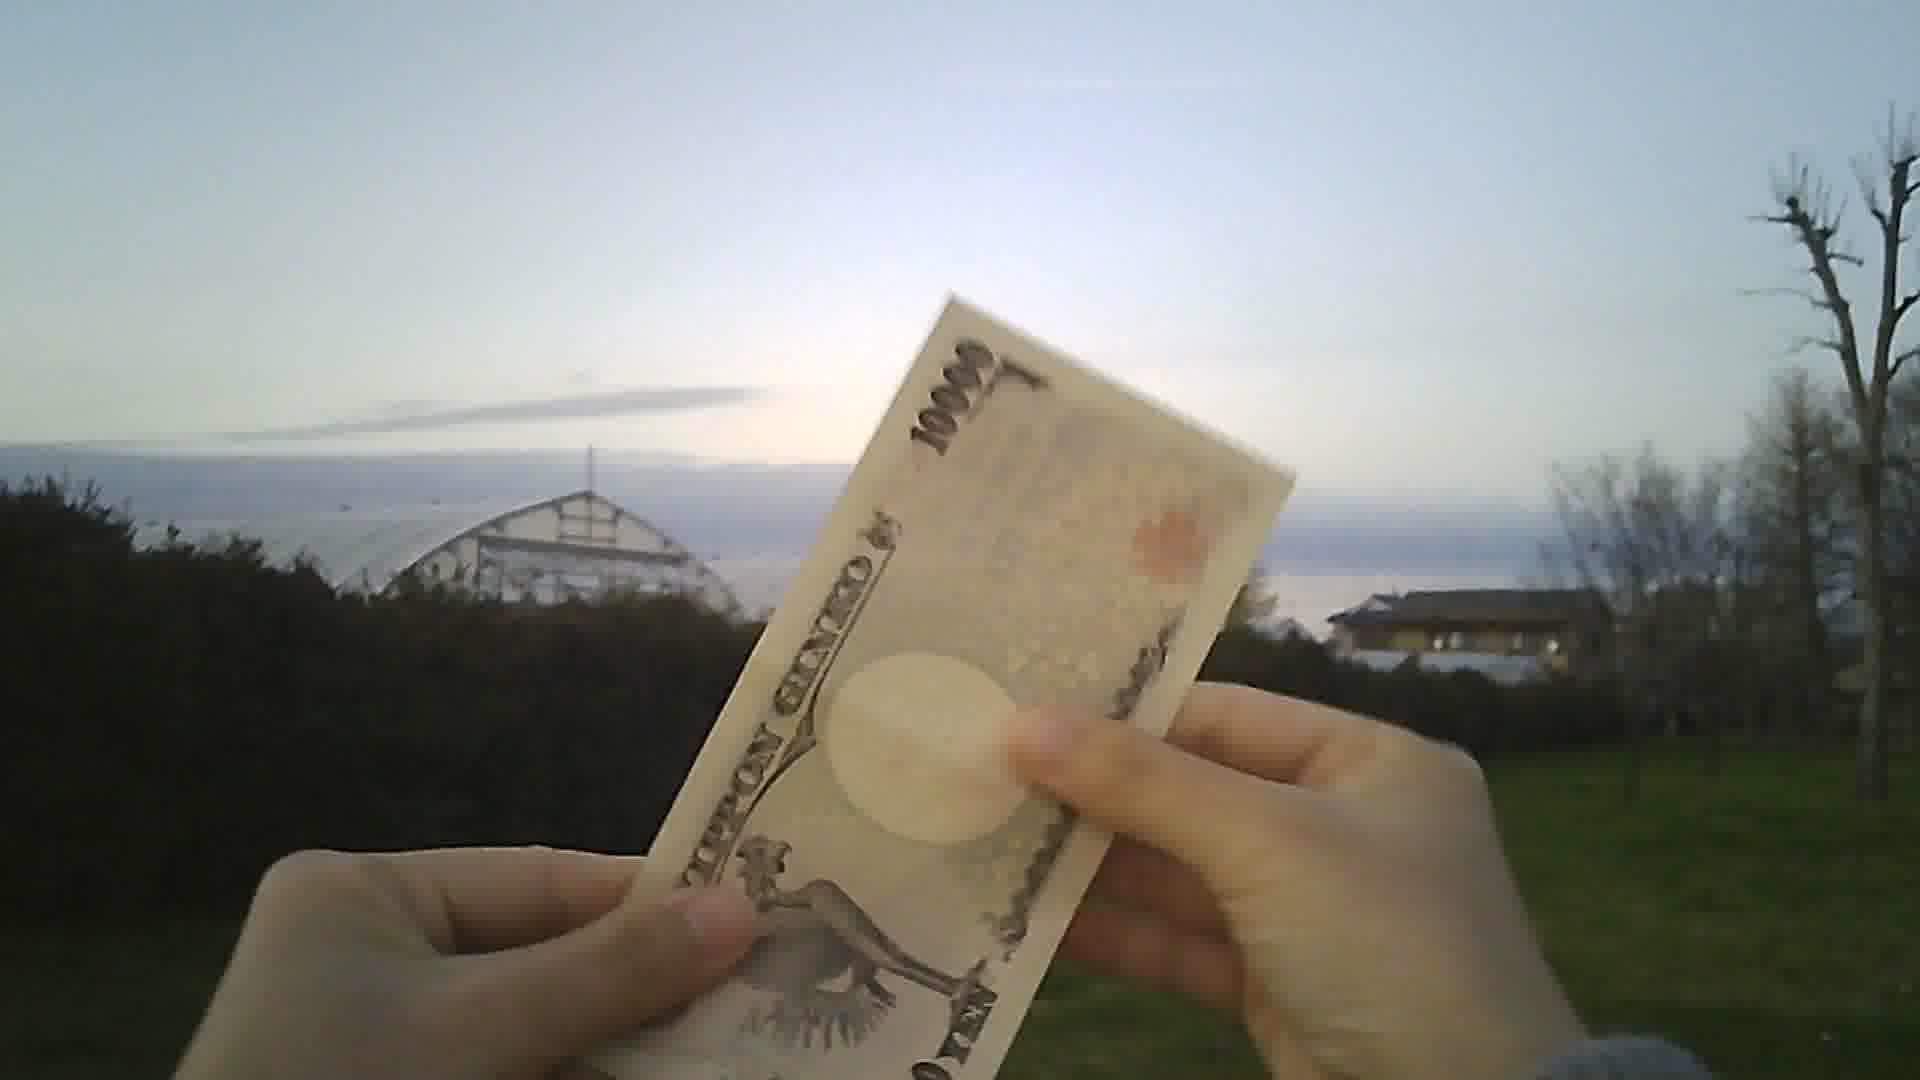10,000 Yen: (543, 247, 1299, 1079)
